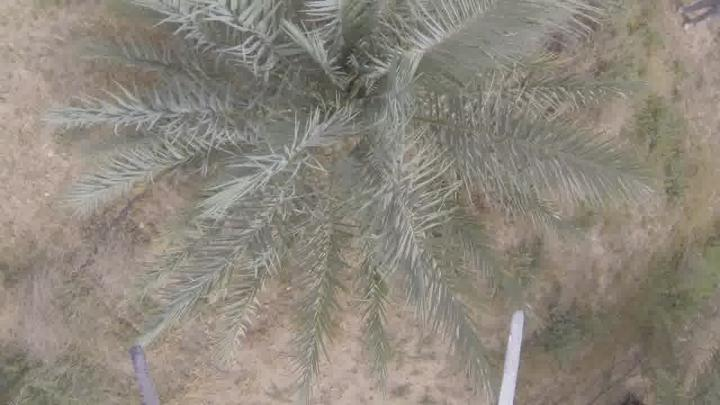Date-Palm-Crown: (184, 1, 484, 254)
